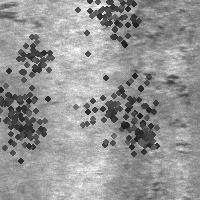rolled-in_scale: (62, 50, 176, 164), (125, 4, 199, 117), (60, 0, 160, 64), (0, 57, 52, 145), (0, 92, 56, 160), (114, 119, 158, 199), (98, 2, 168, 51), (7, 28, 61, 82), (121, 115, 163, 157), (1, 1, 45, 28)
